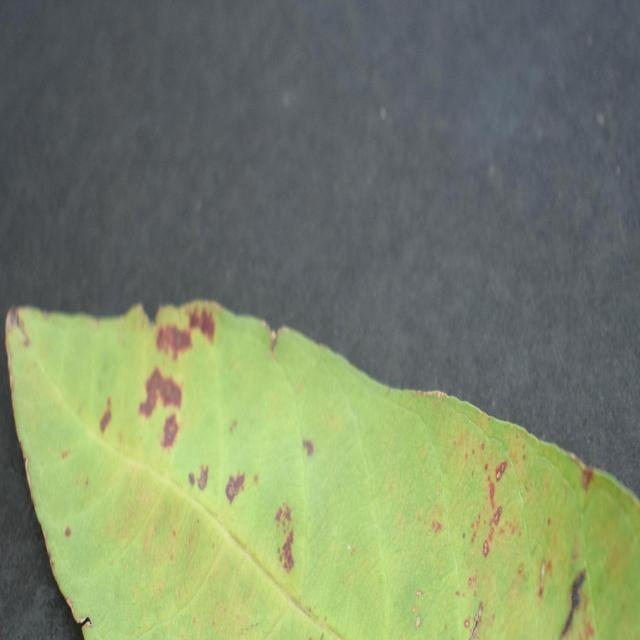Dot: (5, 300, 640, 639)
